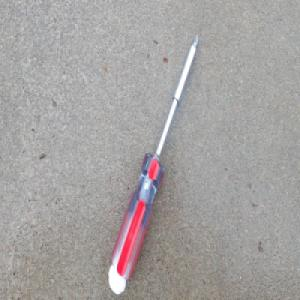Screwdriver: (107, 31, 200, 295)
